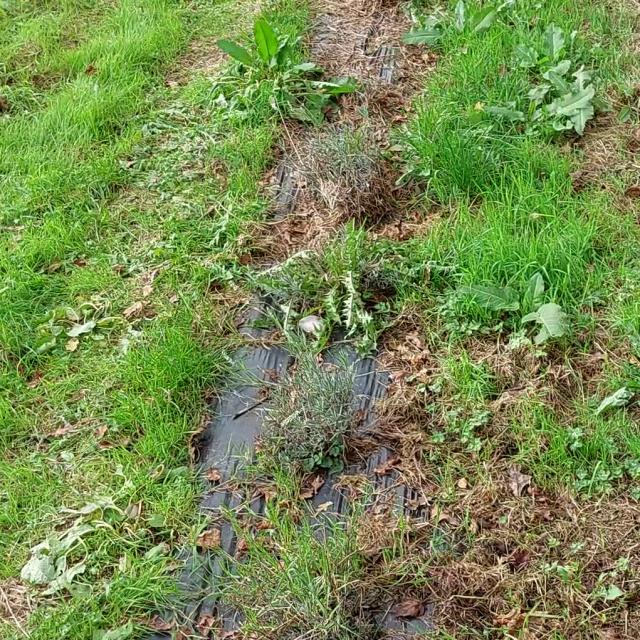organic waste: (192, 11, 370, 161), (428, 249, 613, 382), (0, 497, 174, 611), (404, 0, 548, 78), (508, 46, 625, 138), (488, 7, 591, 95), (31, 286, 141, 358)
